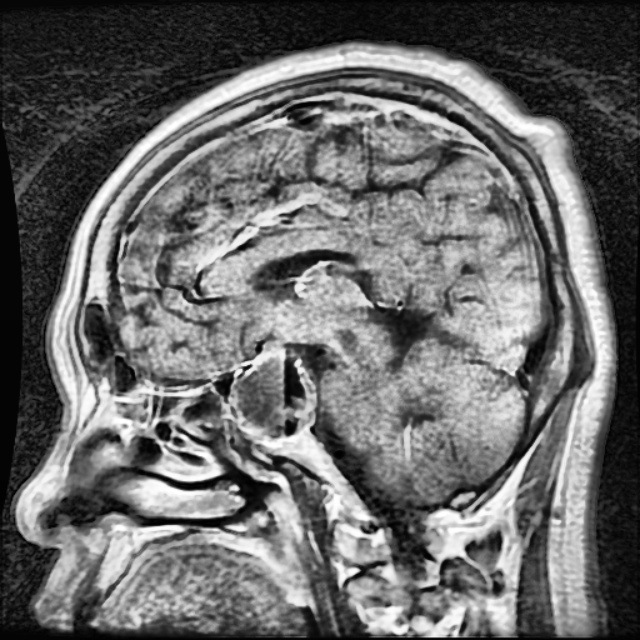Pituitary: (228, 345, 320, 444)
